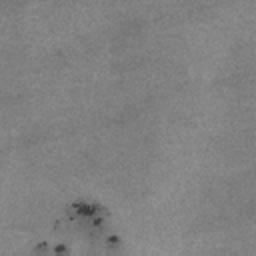Iron sheet ash: (72, 202, 102, 218), (33, 239, 49, 252), (92, 218, 102, 227), (108, 236, 119, 244), (55, 244, 65, 252)
